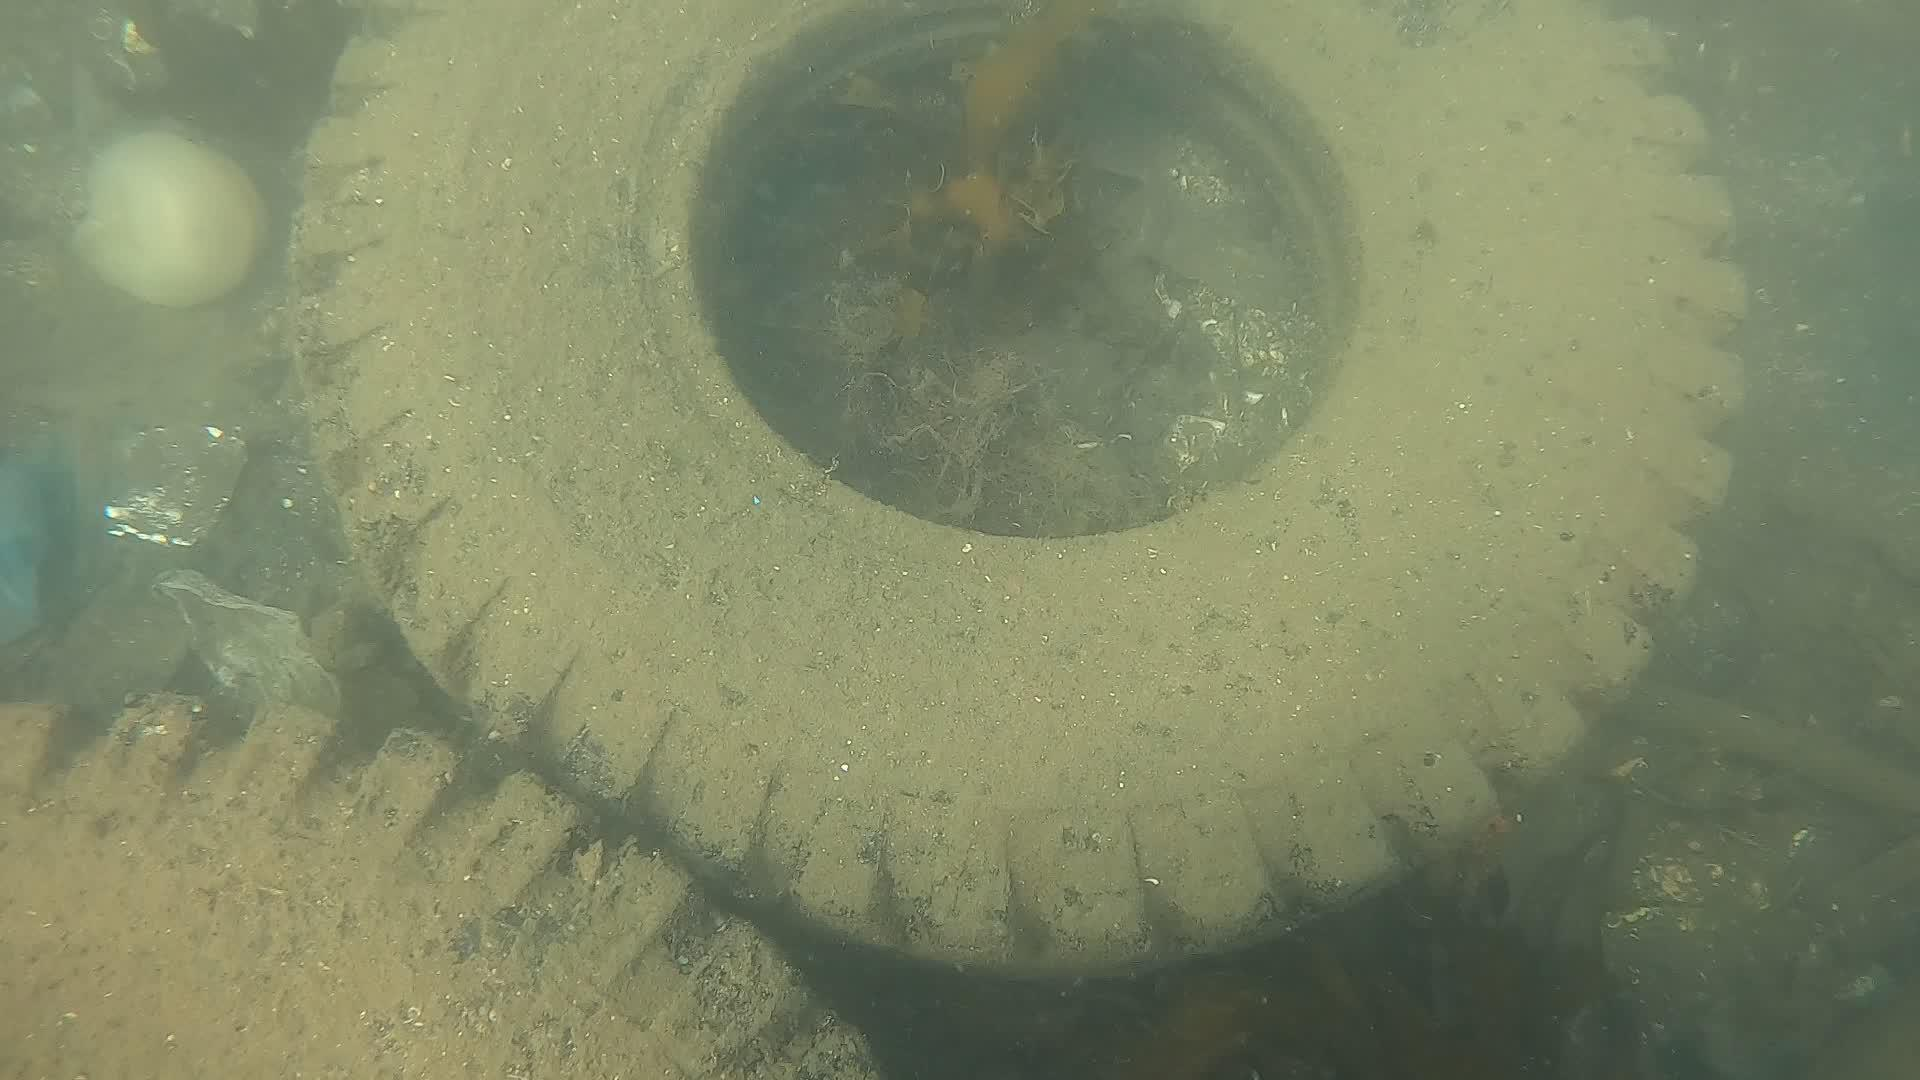tire: (293, 0, 1746, 977)
